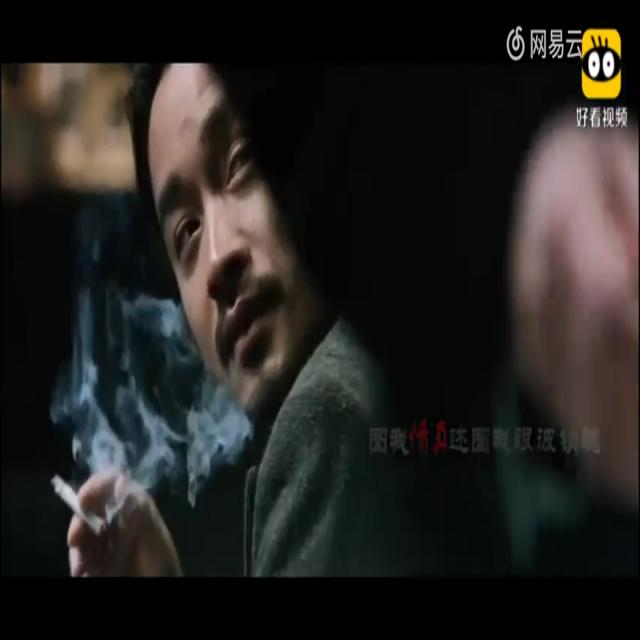smoke: (44, 468, 76, 518)
